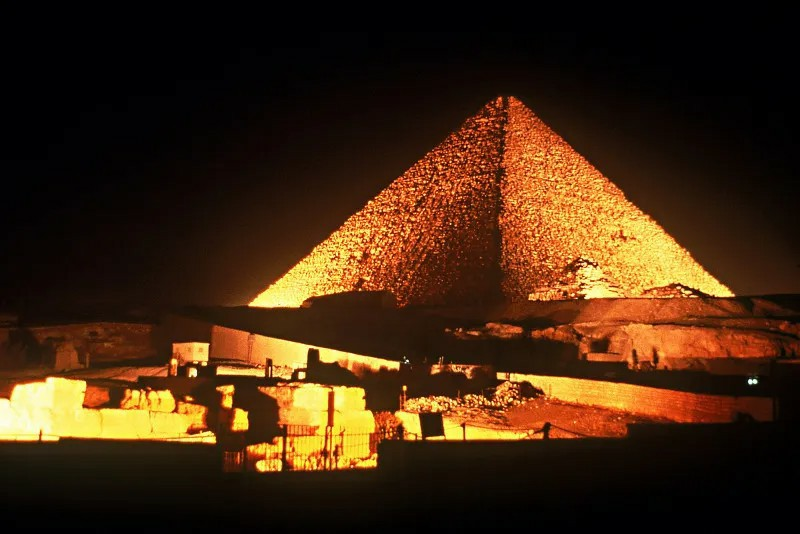Pyramid: (245, 97, 737, 309)
